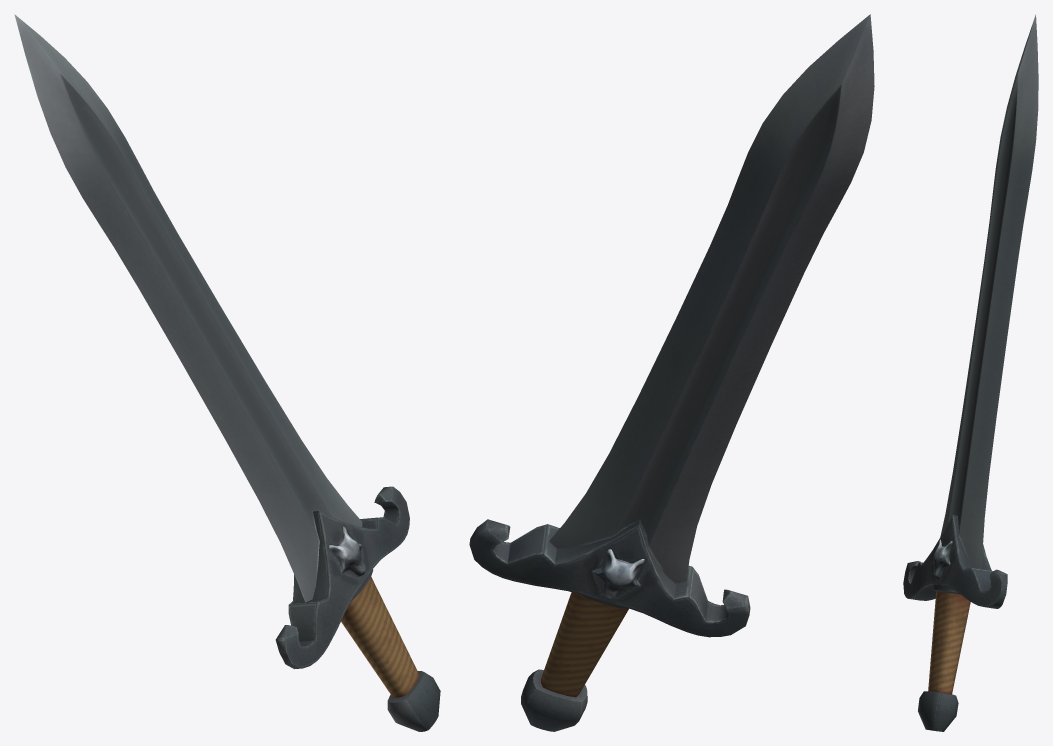
3 views of the same model, side by side, from view 1: azimuth 30°, elevation 25°; view 2: azimuth 150°, elevation 25°; view 3: azimuth 270°, elevation 25° (orthographic). The views are drawn at different scales.
Visible parts, largest first — view 1: Espada; view 2: Espada; view 3: Espada.
Part boxes in pixels (x1,y1,x2,y2): Espada: (14,14,440,731); Espada: (469,14,874,731); Espada: (903,14,1038,731).
Size of the model in its own units: 0.6313 by 1.23 by 0.2561.
Materials: 1 (1 with a texture image).
